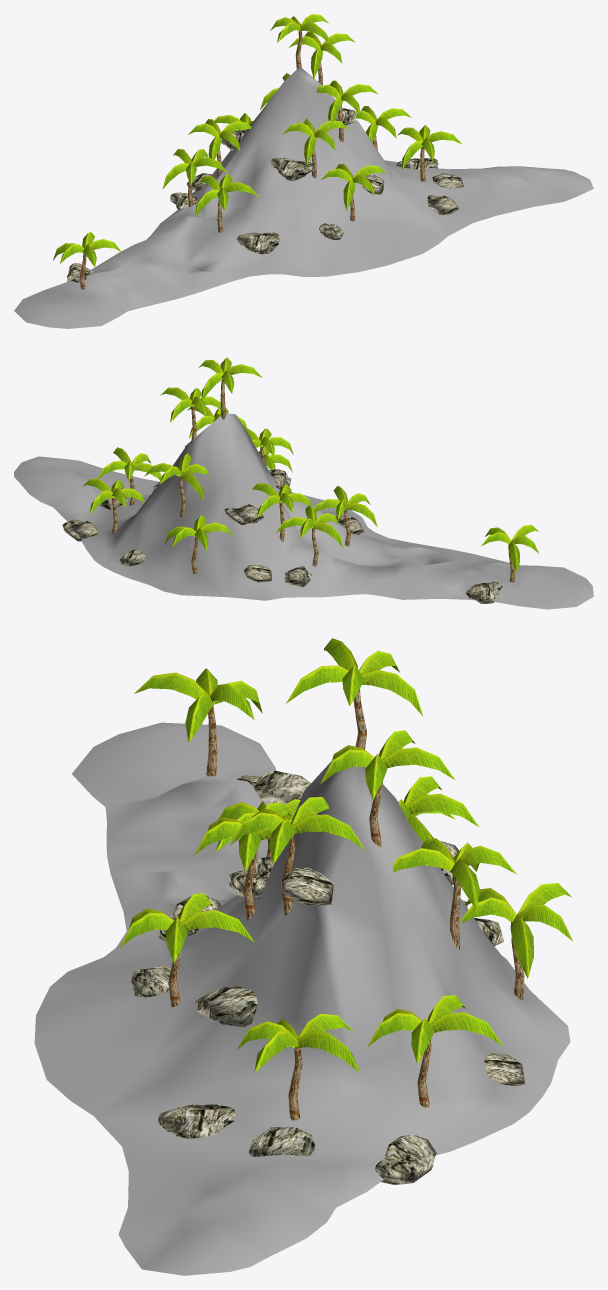
File: island_13.fbx
3 renders of one model, top to bottom at view 1: azimuth 30°, elevation 25°; view 2: azimuth 150°, elevation 25°; view 3: azimuth 270°, elevation 25°, orthographic. The views are drawn at different scales.
Parts seen in each view (by area): view 1: island_13; view 2: island_13; view 3: island_13.
Part boxes in pixels (x1,y1,x2,y2): island_13: (14,14,593,328); island_13: (14,357,593,609); island_13: (34,638,572,1275).
Bounding box in the file's own units: 70.24 × 23.64 × 28.91.
